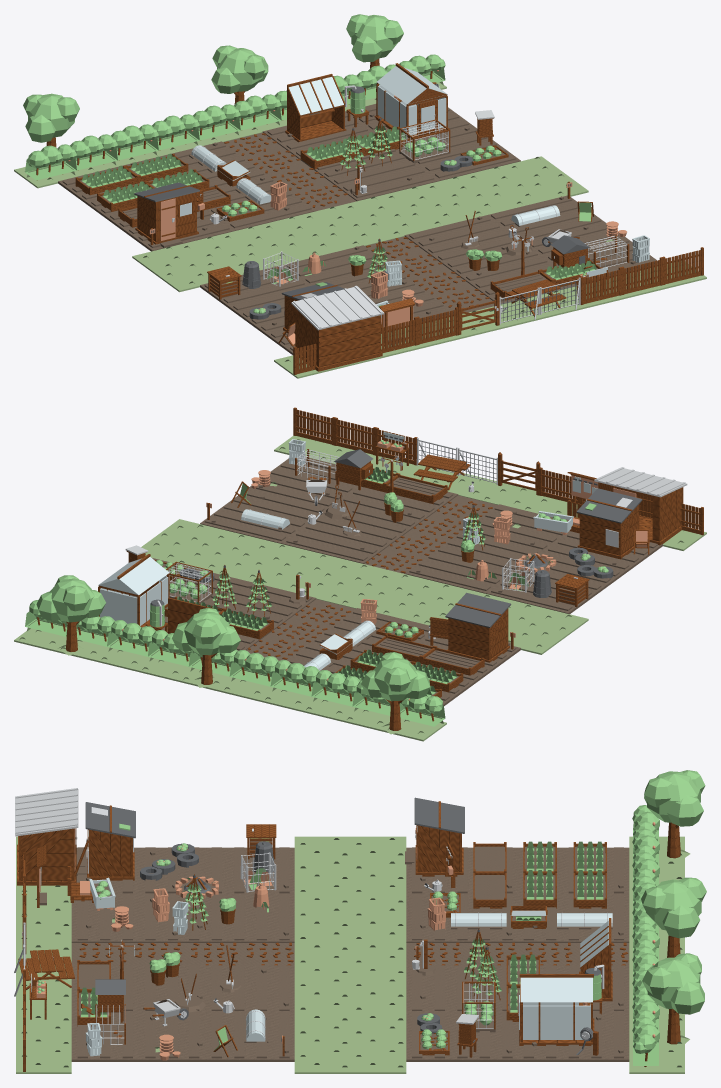
The model's file is allotments-and-community-garden-four-plo-4119e8f0-starter-scene__35180.glb.
3 renders of one model, top to bottom at view 1: azimuth 30°, elevation 25°; view 2: azimuth 150°, elevation 25°; view 3: azimuth 270°, elevation 25°, orthographic. The views are drawn at different scales.
Visible parts, largest first — view 1: 147-communal-tool-store/communal-tool-store-timber, 009-dug-earth-plot-tile/dug-earth-plot-tile-soil, 010-dug-earth-plot-tile/dug-earth-plot-tile-soil, 014-dug-earth-plot-tile/dug-earth-plot-tile-soil, 102-timber-greenhouse/timber-greenhouse-glass, 147-communal-tool-store/communal-tool-store-galv, 006-dug-earth-plot-tile/dug-earth-plot-tile-soil, 013-dug-earth-plot-tile/dug-earth-plot-tile-soil, 103-lean-to-greenhouse/lean-to-greenhouse-timber, 075-orchard-tree/orchard-tree-leaf, 074-orchard-tree/orchard-tree-leaf, 076-orchard-tree/orchard-tree-leaf (+69 smaller); view 2: 010-dug-earth-plot-tile/dug-earth-plot-tile-soil, 006-dug-earth-plot-tile/dug-earth-plot-tile-soil, 014-dug-earth-plot-tile/dug-earth-plot-tile-soil, 102-timber-greenhouse/timber-greenhouse-glass, 015-dug-earth-plot-tile/dug-earth-plot-tile-soil, 007-dug-earth-plot-tile/dug-earth-plot-tile-soil, 074-orchard-tree/orchard-tree-leaf, 076-orchard-tree/orchard-tree-leaf, 095-allotment-shed/allotment-shed-timber, 075-orchard-tree/orchard-tree-leaf, 009-dug-earth-plot-tile/dug-earth-plot-tile-soil, 011-dug-earth-plot-tile/dug-earth-plot-tile-soil (+73 smaller); view 3: 010-dug-earth-plot-tile/dug-earth-plot-tile-soil, 014-dug-earth-plot-tile/dug-earth-plot-tile-soil, 006-dug-earth-plot-tile/dug-earth-plot-tile-soil, 015-dug-earth-plot-tile/dug-earth-plot-tile-soil, 102-timber-greenhouse/timber-greenhouse-glass, 007-dug-earth-plot-tile/dug-earth-plot-tile-soil, 009-dug-earth-plot-tile/dug-earth-plot-tile-soil, 013-dug-earth-plot-tile/dug-earth-plot-tile-soil, 002-dug-earth-plot-tile/dug-earth-plot-tile-soil, 005-dug-earth-plot-tile/dug-earth-plot-tile-soil, 012-dug-earth-plot-tile/dug-earth-plot-tile-soil, 076-orchard-tree/orchard-tree-leaf (+84 smaller).
Part boxes in pixels (box(x1,y1,x2,y2)): 147-communal-tool-store/communal-tool-store-timber: box(293, 308, 382, 371); 009-dug-earth-plot-tile/dug-earth-plot-tile-soil: box(310, 149, 438, 201); 010-dug-earth-plot-tile/dug-earth-plot-tile-soil: box(404, 215, 533, 270); 014-dug-earth-plot-tile/dug-earth-plot-tile-soil: box(486, 195, 606, 249); 102-timber-greenhouse/timber-greenhouse-glass: box(377, 66, 447, 135); 147-communal-tool-store/communal-tool-store-galv: box(291, 285, 384, 330); 006-dug-earth-plot-tile/dug-earth-plot-tile-soil: box(283, 245, 410, 291); 013-dug-earth-plot-tile/dug-earth-plot-tile-soil: box(397, 126, 520, 180); 103-lean-to-greenhouse/lean-to-greenhouse-timber: box(285, 74, 346, 142); 075-orchard-tree/orchard-tree-leaf: box(211, 45, 268, 93); 074-orchard-tree/orchard-tree-leaf: box(23, 93, 79, 142); 076-orchard-tree/orchard-tree-leaf: box(346, 14, 403, 62); 010-dug-earth-plot-tile/dug-earth-plot-tile-soil: box(281, 511, 410, 563); 006-dug-earth-plot-tile/dug-earth-plot-tile-soil: box(404, 539, 527, 593); 014-dug-earth-plot-tile/dug-earth-plot-tile-soil: box(200, 489, 327, 543); 102-timber-greenhouse/timber-greenhouse-glass: box(98, 557, 169, 625); 015-dug-earth-plot-tile/dug-earth-plot-tile-soil: box(248, 457, 358, 508); 007-dug-earth-plot-tile/dug-earth-plot-tile-soil: box(452, 504, 570, 556); 074-orchard-tree/orchard-tree-leaf: box(361, 652, 430, 701); 076-orchard-tree/orchard-tree-leaf: box(36, 575, 105, 622); 095-allotment-shed/allotment-shed-timber: box(447, 603, 509, 662); 075-orchard-tree/orchard-tree-leaf: box(172, 607, 240, 655); 009-dug-earth-plot-tile/dug-earth-plot-tile-soil: box(203, 578, 316, 633); 011-dug-earth-plot-tile/dug-earth-plot-tile-soil: box(334, 486, 458, 529); 010-dug-earth-plot-tile/dug-earth-plot-tile-soil: box(183, 965, 294, 1012); 014-dug-earth-plot-tile/dug-earth-plot-tile-soil: box(183, 1012, 294, 1061); 006-dug-earth-plot-tile/dug-earth-plot-tile-soil: box(183, 894, 294, 942); 015-dug-earth-plot-tile/dug-earth-plot-tile-soil: box(71, 1012, 183, 1061); 102-timber-greenhouse/timber-greenhouse-glass: box(520, 977, 592, 1039); 007-dug-earth-plot-tile/dug-earth-plot-tile-soil: box(71, 894, 183, 942); 009-dug-earth-plot-tile/dug-earth-plot-tile-soil: box(406, 965, 508, 1012); 013-dug-earth-plot-tile/dug-earth-plot-tile-soil: box(406, 1012, 517, 1061); 002-dug-earth-plot-tile/dug-earth-plot-tile-soil: box(183, 847, 294, 894); 005-dug-earth-plot-tile/dug-earth-plot-tile-soil: box(406, 894, 517, 942); 012-dug-earth-plot-tile/dug-earth-plot-tile-soil: box(517, 1012, 629, 1061); 076-orchard-tree/orchard-tree-leaf: box(642, 953, 704, 1014).
Bounding box in the file's own units: 20.23 × 3.32 × 24.86.
Materials: 8 (2 with a texture image).
